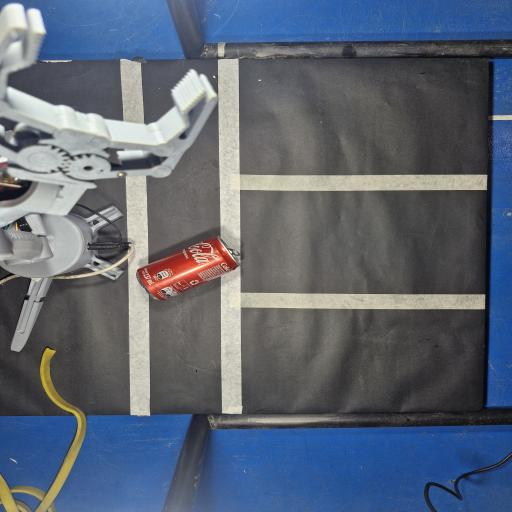lata: (137, 236, 240, 300)
